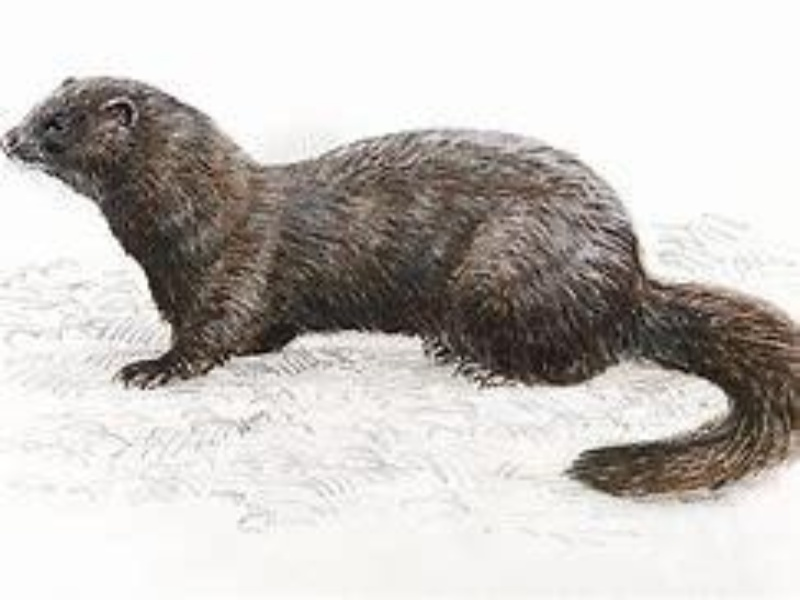minkish: (3, 70, 799, 503)
